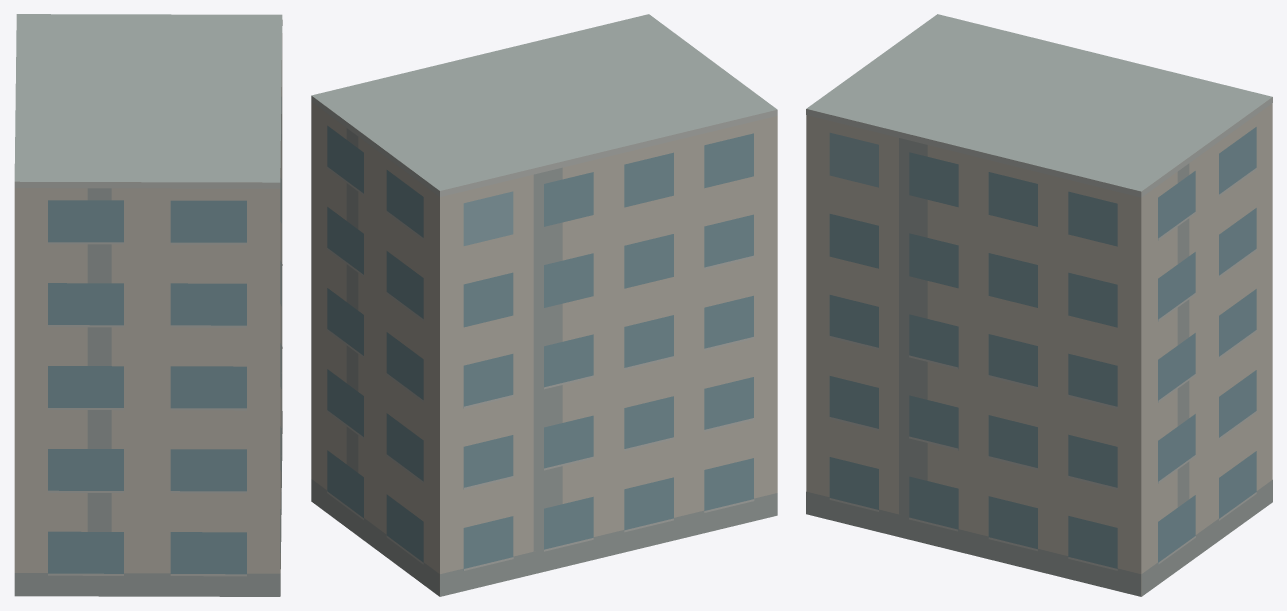
Rendered from survey-upis-32943290.glb.
The picture shows the model from 3 angles, left to right: view 1: azimuth 30°, elevation 25°; view 2: azimuth 150°, elevation 25°; view 3: azimuth 270°, elevation 25°; orthographic projection. The views are drawn at different scales.
Parts seen in each view (by area): view 1: survey-upis-32943290.tmp; view 2: survey-upis-32943290.tmp; view 3: survey-upis-32943290.tmp.
Part boxes in pixels (bbox=[...]): survey-upis-32943290.tmp: bbox=[14, 14, 282, 596]; survey-upis-32943290.tmp: bbox=[311, 14, 777, 596]; survey-upis-32943290.tmp: bbox=[806, 14, 1272, 596].
Size of the model in its own units: 15.13 by 16.1 by 16.81.
